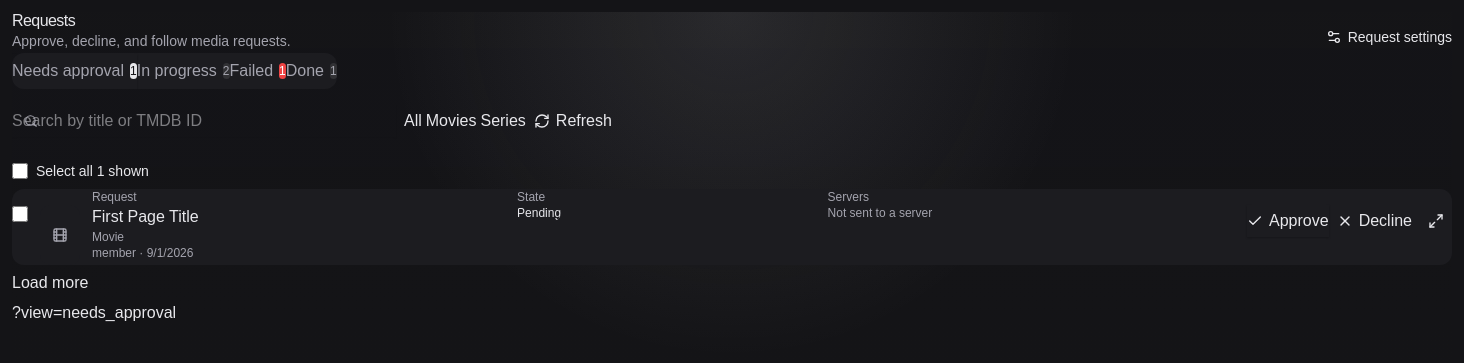
request administration › loads the next page from the cursor the last one returned
Click the button "Load more".
click(50, 283)  # box [12,265,88,301]
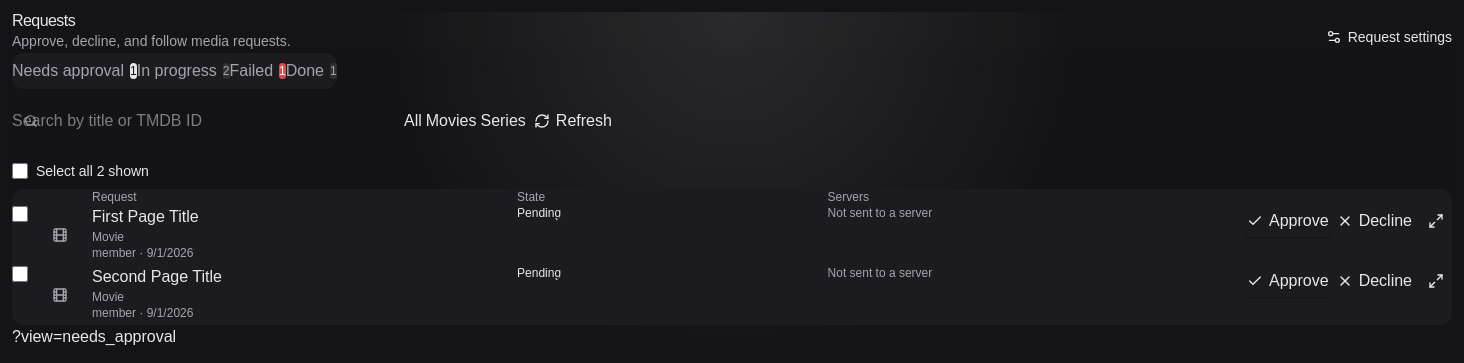
Expected: the link "First Page Title" is shown, [92,208,199,225]
Expected: the list item "Second Page Title" is shown, [12,265,1452,325]
Expected: the button "Load more" is gone
